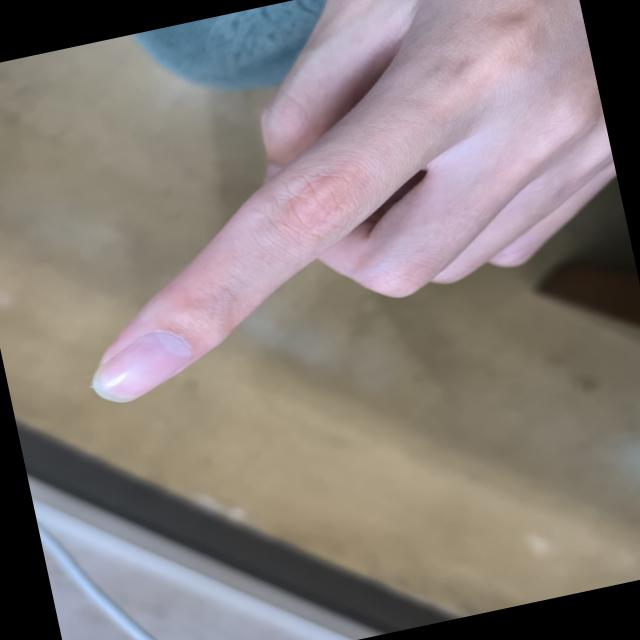Nail: (93, 331, 188, 401)
